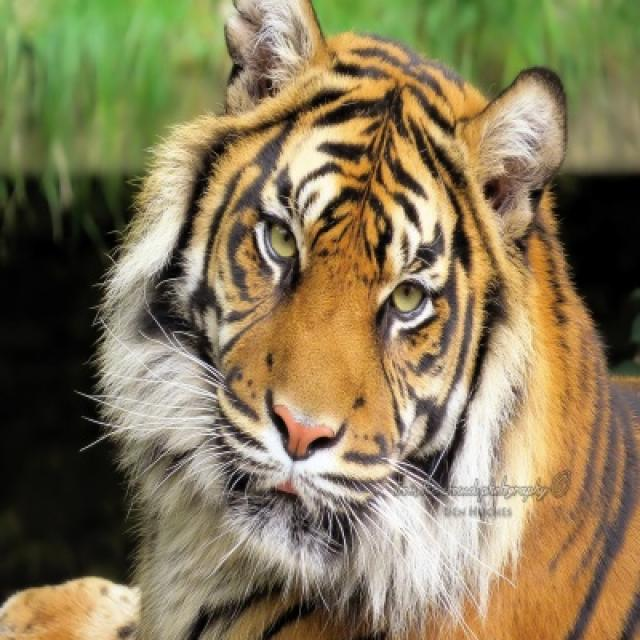Tiger: (3, 1, 638, 635)
